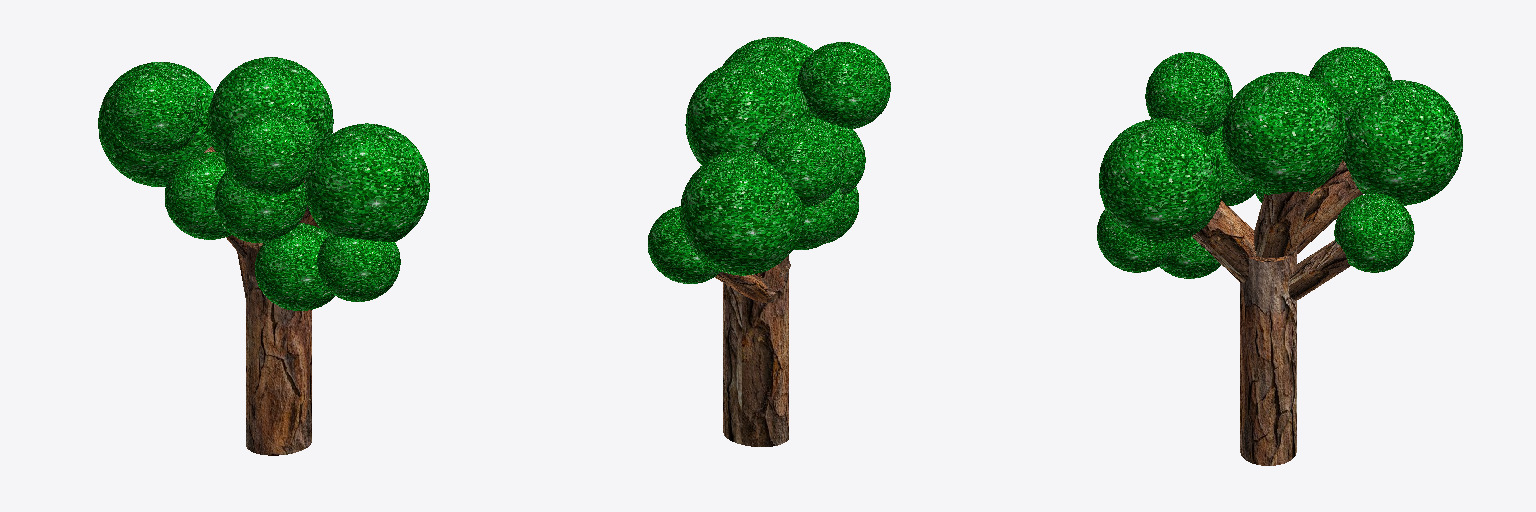
3 renders of one model, left to right at view 1: azimuth 30°, elevation 25°; view 2: azimuth 150°, elevation 25°; view 3: azimuth 270°, elevation 25°, orthographic.
Parts seen in each view (by area): view 1: Sphere.001, Cylinder, Sphere, Sphere.008, Sphere.007, Sphere.009, Sphere.002, Sphere.004, Sphere.006, Sphere.005; view 2: Sphere.002, Cylinder, Sphere, Sphere.007, Sphere.008, Sphere.003, Sphere.001, Sphere.005, Sphere.006, Cylinder.003, Sphere.009; view 3: Sphere.001, Sphere, Sphere.002, Cylinder, Sphere.007, Sphere.003, Sphere.008, Cylinder.002, Cylinder.001, Sphere.004, Cylinder.004, Cylinder.003 (+2 smaller).
Part boxes in pixels (x1,y1,x2,y2): Sphere.001: (304, 123, 429, 241); Cylinder: (246, 243, 311, 455); Sphere: (208, 57, 333, 158); Sphere.008: (109, 69, 202, 156); Sphere.007: (224, 108, 316, 195); Sphere.009: (255, 223, 334, 310); Sphere.002: (98, 62, 216, 186); Sphere.004: (317, 236, 400, 301); Sphere.006: (214, 170, 306, 242); Sphere.005: (165, 152, 230, 239); Sphere.002: (680, 150, 805, 275); Cylinder: (723, 255, 788, 446); Sphere: (685, 61, 810, 164); Sphere.007: (797, 42, 890, 128); Sphere.008: (753, 120, 844, 206); Sphere.003: (648, 206, 719, 283); Sphere.001: (723, 37, 813, 83); Sphere.005: (794, 187, 844, 249); Sphere.006: (810, 115, 865, 195); Cylinder.003: (715, 272, 776, 302); Sphere.009: (825, 187, 858, 243); Sphere.001: (1099, 118, 1223, 243); Sphere: (1222, 72, 1347, 194); Sphere.002: (1343, 80, 1462, 205); Cylinder: (1240, 246, 1296, 465); Sphere.007: (1145, 52, 1232, 136); Sphere.003: (1334, 193, 1414, 272); Sphere.008: (1309, 47, 1392, 120); Cylinder.002: (1254, 191, 1311, 257); Cylinder.001: (1192, 200, 1255, 282); Sphere.004: (1097, 209, 1175, 272); Cylinder.004: (1297, 159, 1362, 253); Cylinder.003: (1289, 240, 1350, 300).
Bounding box in the file's own units: 3.91 × 6.56 × 5.83.
15 materials, 2 textured.